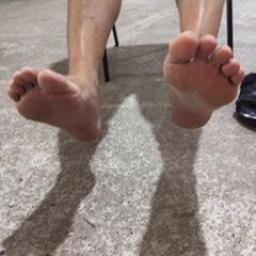Plantar View -Both Feet-: (6, 25, 248, 146)
